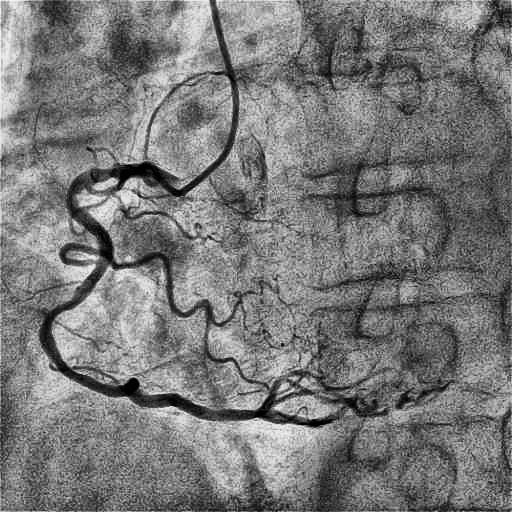pborca: (265, 367, 398, 406)
pda: (266, 404, 349, 427)
rca: (39, 162, 267, 421)
